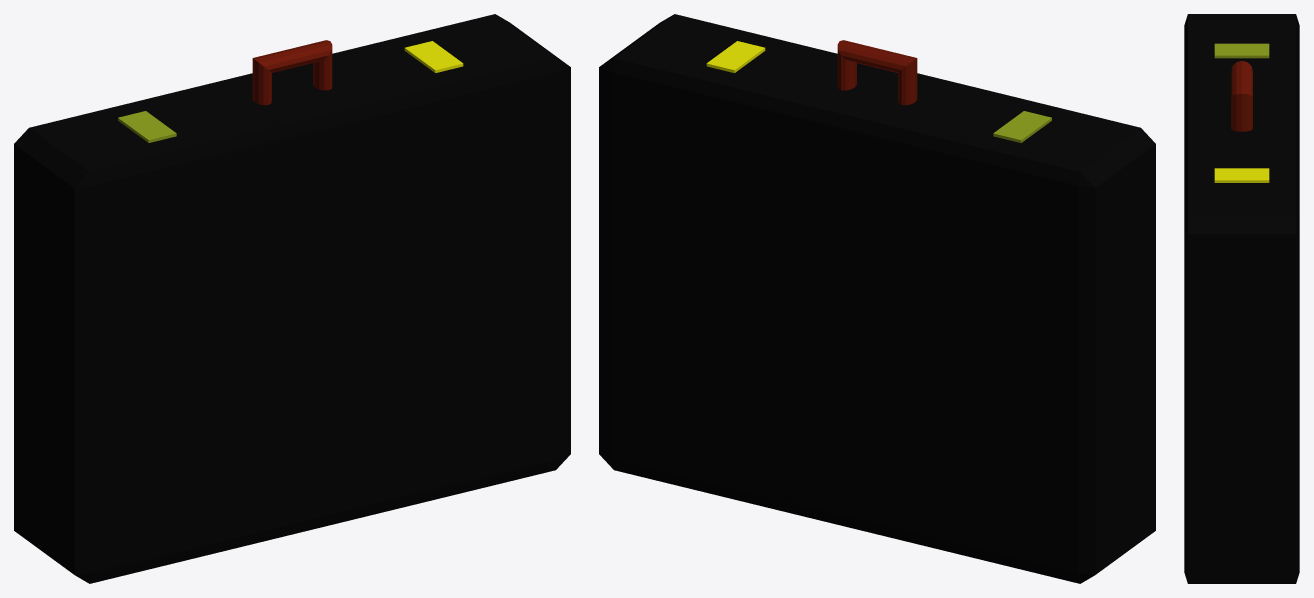
Rendered from BriefCase.fbx.
3 views of the same model, side by side, from view 1: azimuth 30°, elevation 25°; view 2: azimuth 150°, elevation 25°; view 3: azimuth 270°, elevation 25° (orthographic). The views are drawn at different scales.
Parts seen in each view (by area): view 1: Cube, Torus, Cube.001, Cube.002; view 2: Cube, Torus, Cube.001, Cube.002; view 3: Cube, Torus, Cube.002, Cube.001.
Part boxes in pixels (left/top/right/bottom): Cube: left=14, top=14, right=570, bottom=583; Torus: left=252, top=40, right=332, bottom=105; Cube.001: left=404, top=41, right=463, bottom=72; Cube.002: left=118, top=111, right=176, bottom=142; Cube: left=599, top=14, right=1155, bottom=583; Torus: left=837, top=40, right=917, bottom=105; Cube.001: left=706, top=41, right=765, bottom=72; Cube.002: left=993, top=111, right=1051, bottom=142; Cube: left=1184, top=14, right=1299, bottom=583; Torus: left=1231, top=61, right=1252, bottom=131; Cube.002: left=1214, top=43, right=1269, bottom=58; Cube.001: left=1214, top=168, right=1269, bottom=182.
Size of the model in its own units: 200 by 175 by 45.06.
